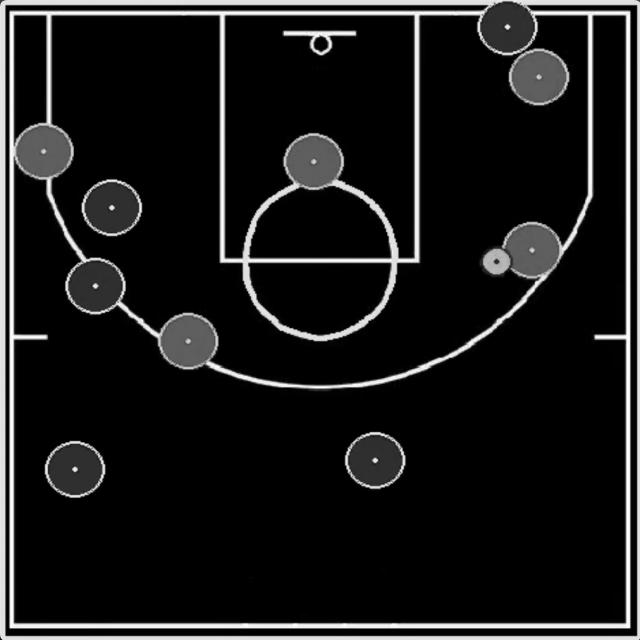Basketball: (480, 246, 511, 278)
Team_A: (345, 432, 406, 489), (81, 179, 142, 236), (45, 441, 105, 498), (65, 258, 125, 315), (478, 0, 537, 55)
Team_B: (158, 312, 218, 370), (13, 122, 73, 180), (508, 49, 569, 105), (283, 134, 343, 190), (500, 223, 560, 279)
